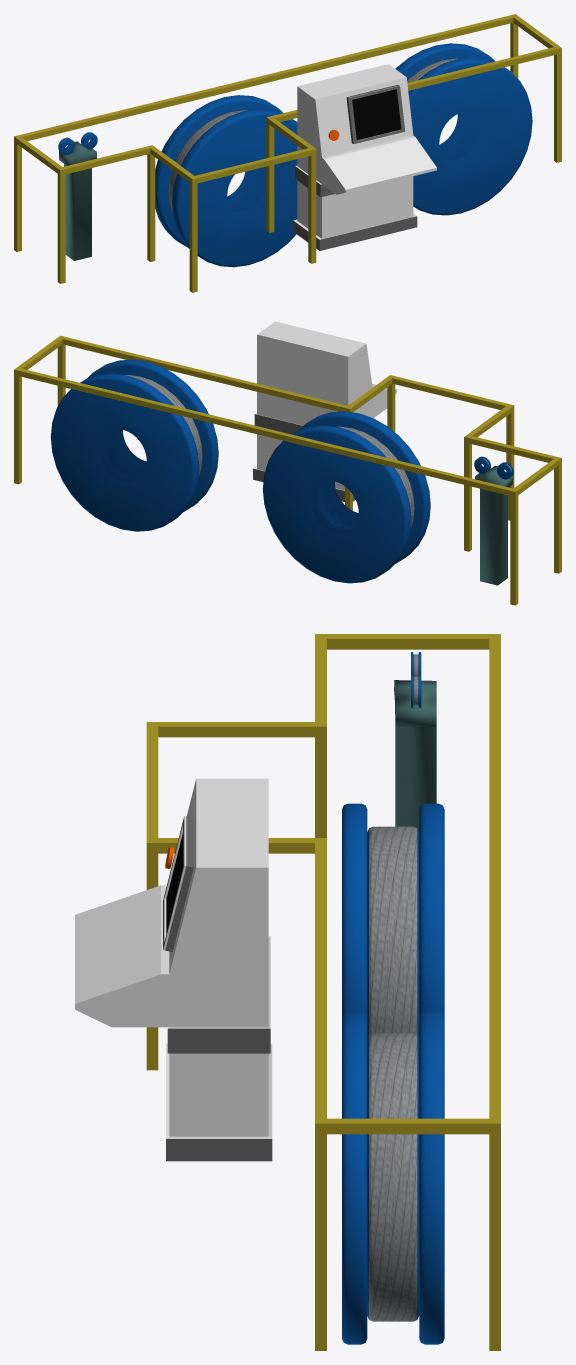
Rendered from cableadora.glb.
3 renders of one model, top to bottom at view 1: azimuth 30°, elevation 25°; view 2: azimuth 150°, elevation 25°; view 3: azimuth 270°, elevation 25°, orthographic. The views are drawn at different scales.
Visible parts, largest first — view 1: Ordenador, Cylinder.010, Cube.015, Cylinder.012, Cube.016; view 2: Cylinder.010, Cylinder.012, Cube.015, Ordenador, Cube.016; view 3: Ordenador, Cylinder.012, Cube.015, Cylinder.010, Cube.016.
Part boxes in pixels (left/top/right/bottom): Ordenador: left=293, top=64, right=436, bottom=250; Cylinder.010: left=155, top=95, right=297, bottom=267; Cube.015: left=14, top=14, right=561, bottom=292; Cylinder.012: left=395, top=43, right=532, bottom=215; Cube.016: left=59, top=141, right=96, bottom=260; Cylinder.010: left=263, top=411, right=430, bottom=583; Cylinder.012: left=50, top=359, right=218, bottom=531; Cube.015: left=14, top=335, right=561, bottom=605; Ordenador: left=253, top=321, right=396, bottom=501; Cube.016: left=475, top=465, right=513, bottom=585; Ordenador: left=75, top=778, right=272, bottom=1161; Cylinder.012: left=342, top=1010, right=444, bottom=1344; Cube.015: left=146, top=634, right=500, bottom=1350; Cylinder.010: left=342, top=803, right=444, bottom=1038; Cube.016: left=394, top=680, right=436, bottom=831.
Bounding box in the file's own units: 19.88 × 7.05 × 7.31.
8 materials, 1 textured.
